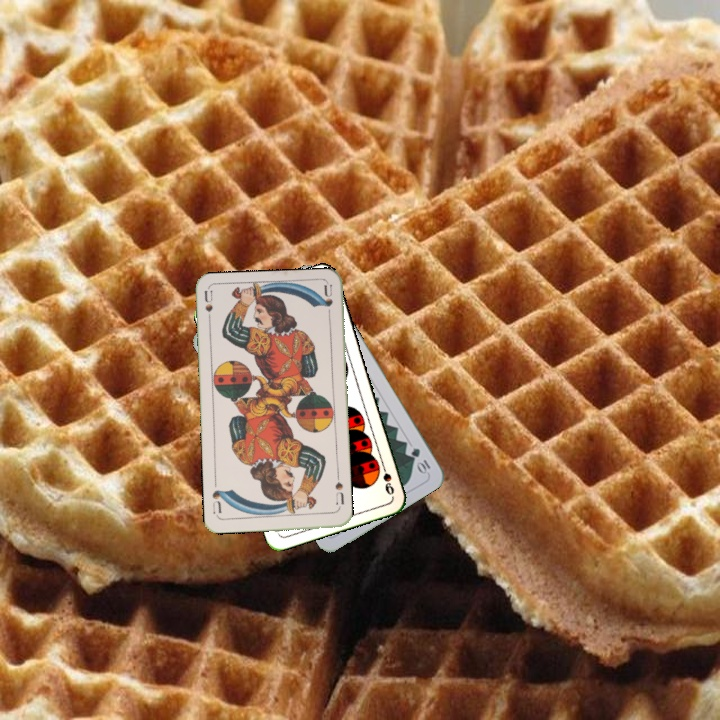G10: (407, 444, 433, 476)
S9: (377, 458, 397, 498)
SU: (200, 288, 215, 328), (331, 478, 347, 507)
